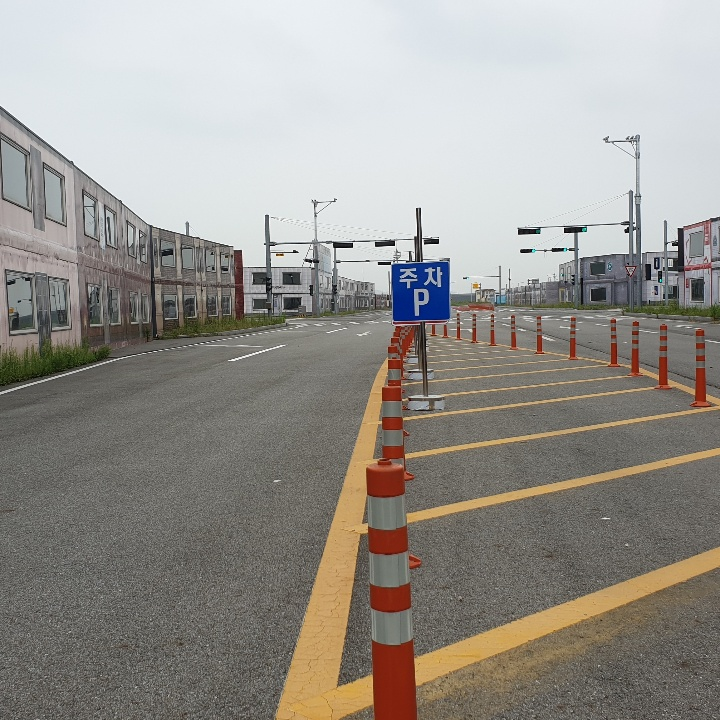parking: (408, 284, 431, 320)
